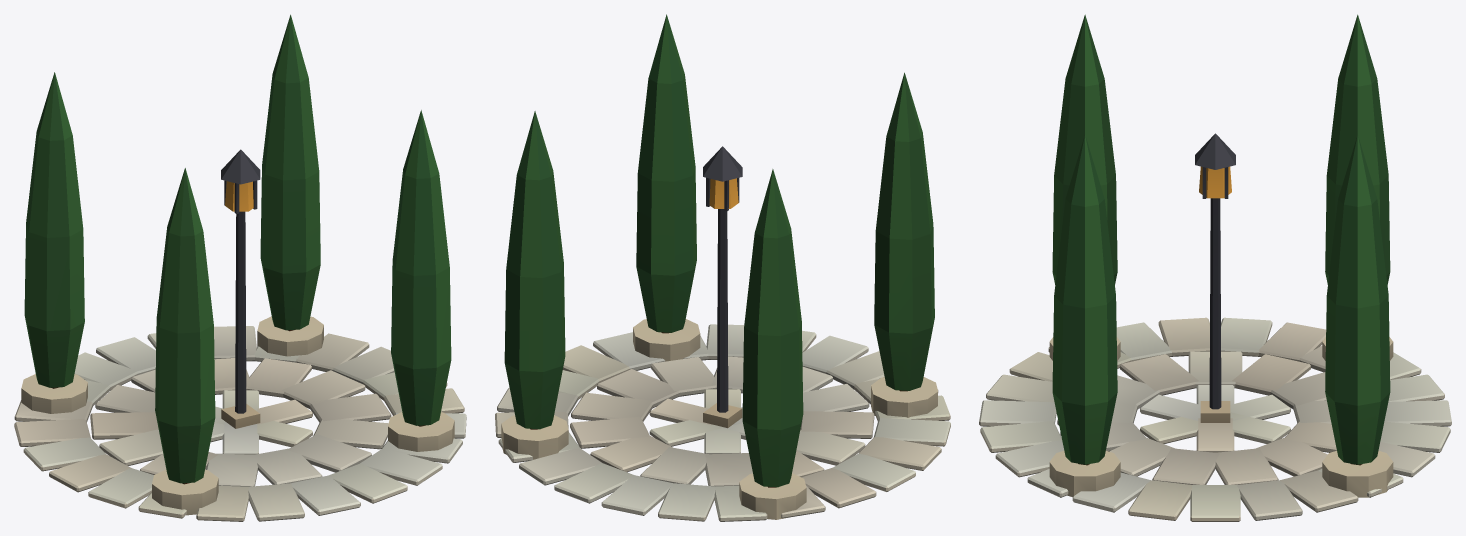
Rendered from city_cypress.glb.
The picture shows the model from 3 angles, left to right: view 1: azimuth 30°, elevation 25°; view 2: azimuth 150°, elevation 25°; view 3: azimuth 270°, elevation 25°; orthographic projection. The views are drawn at different scales.
Parts seen in each view (by area): view 1: city_cypress; view 2: city_cypress; view 3: city_cypress.
Boxes of the visible parts, box(x1,y1,x2,y2) form: city_cypress: box(14, 14, 466, 521); city_cypress: box(495, 14, 950, 521); city_cypress: box(979, 14, 1451, 521).
Bounding box in the file's own units: 0.7957 × 0.65 × 0.7975.
